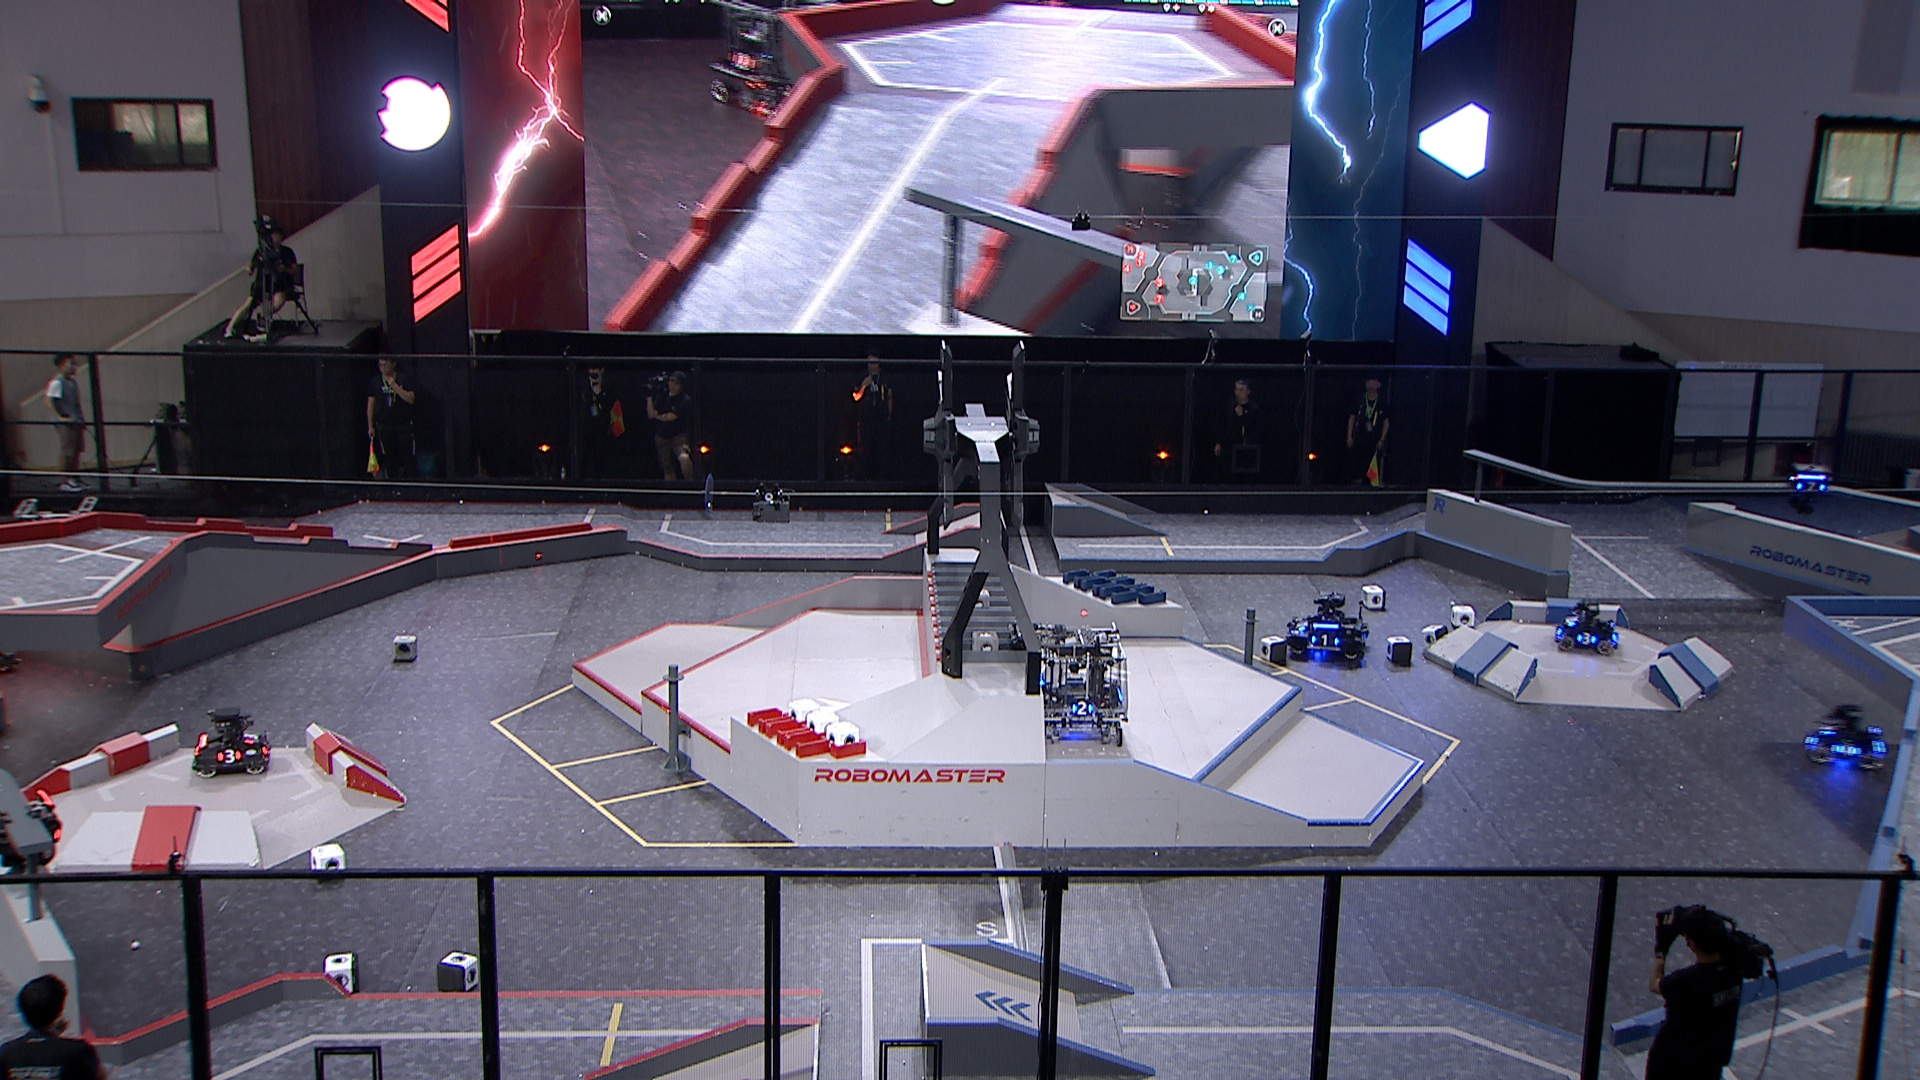armor: (1833, 741, 1863, 760), (1309, 633, 1342, 647), (1816, 721, 1840, 741), (218, 746, 243, 765), (1795, 481, 1828, 495), (1072, 699, 1095, 716), (1577, 632, 1598, 646), (1295, 618, 1309, 636), (1563, 615, 1581, 628), (244, 731, 258, 746)
car: (1033, 622, 1134, 745), (7, 496, 102, 584), (1284, 589, 1371, 665), (191, 704, 272, 779), (1807, 703, 1888, 773), (1553, 603, 1622, 655)
ignore: (704, 7, 795, 128)
watcher: (1784, 463, 1833, 520)
